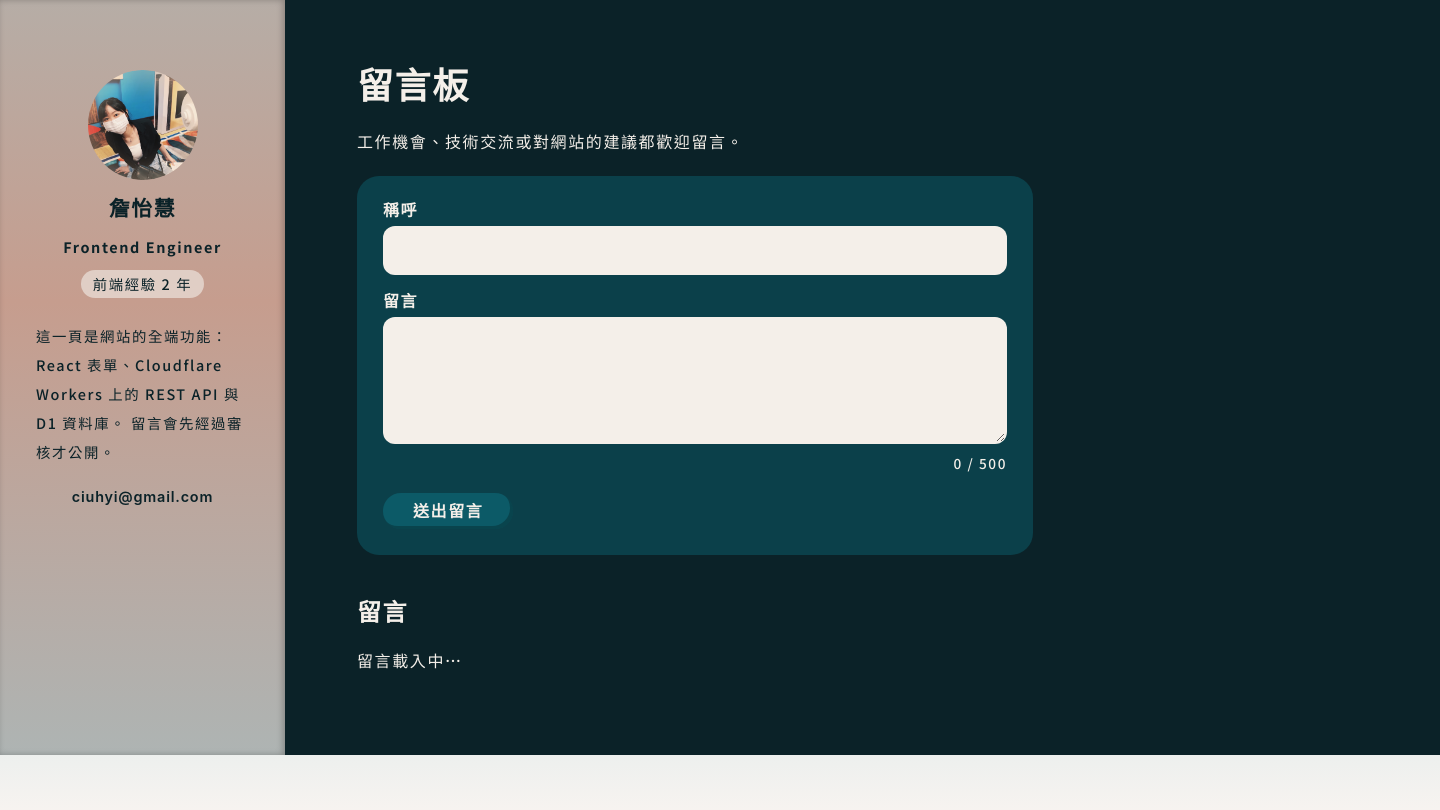
Scenario: 留言板 › 欄位空白時不送出請求，並在欄位旁顯示錯誤
Click the button "送出留言": x=448, y=511 [383,493,513,529]
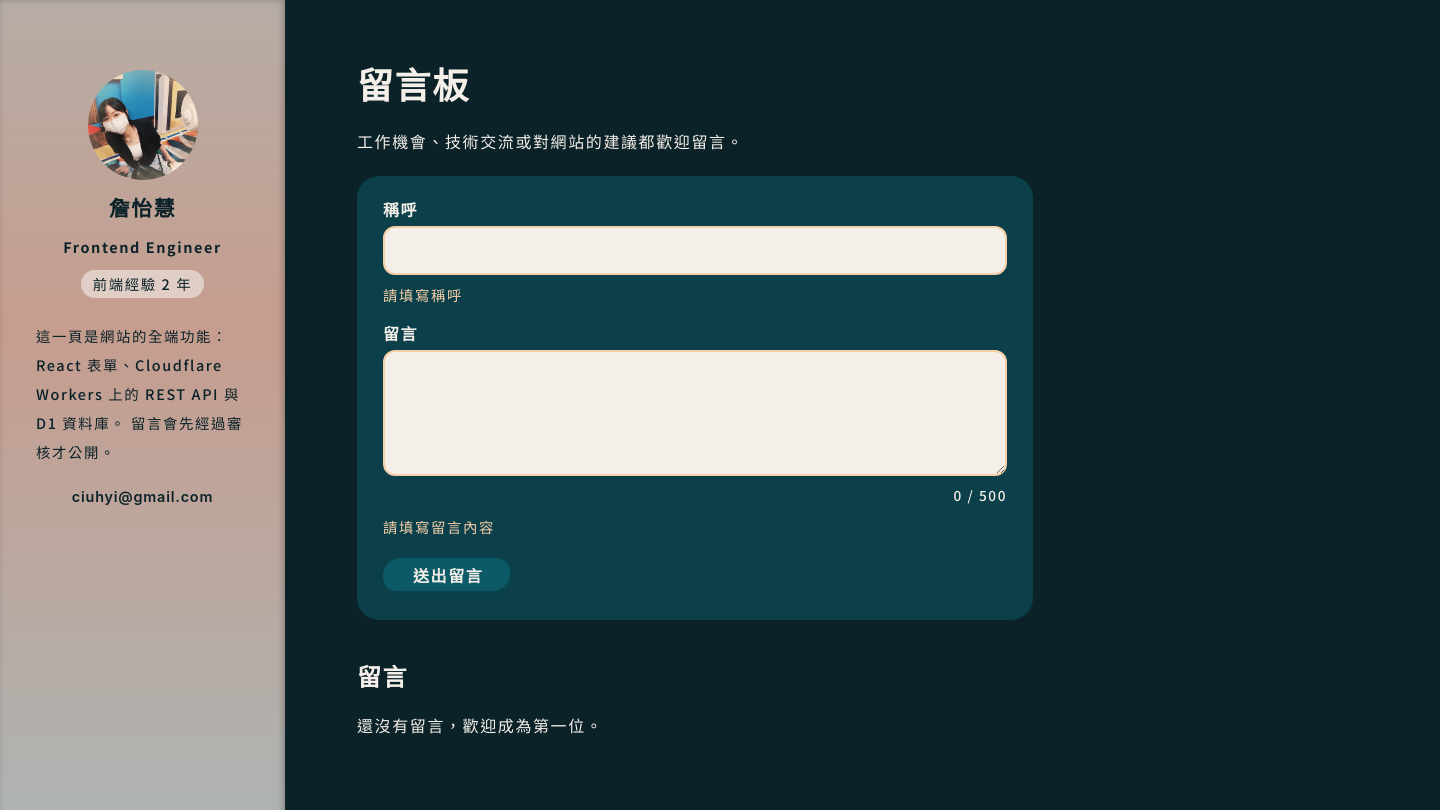
expect the text "請填寫稱呼" is shown: met, box [383,284,463,305]
expect the text "請填寫留言內容" is shown: met, box [383,516,495,537]
